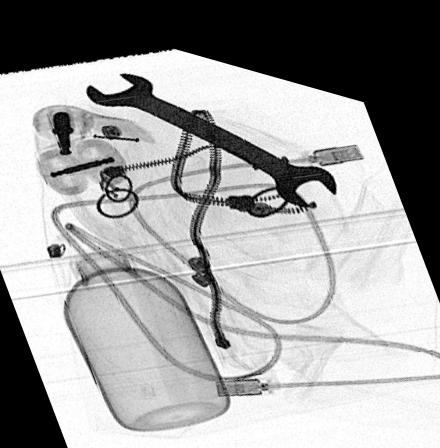Wrench: (87, 66, 338, 193)
